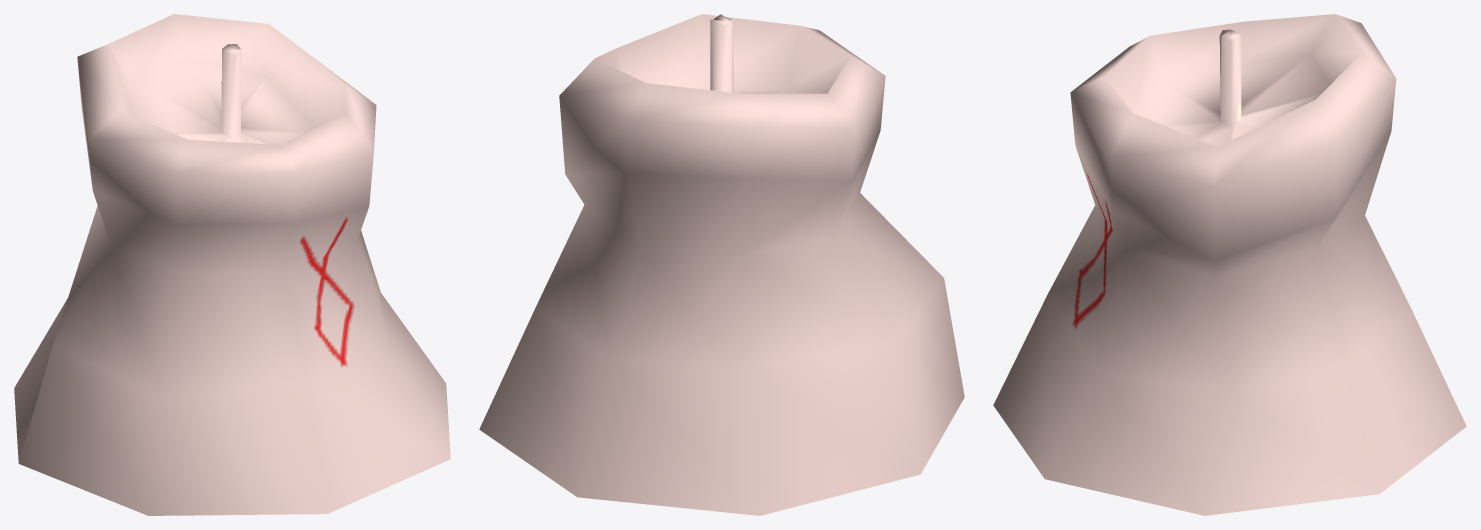
Rendered from Candle3.fbx.
3 renders of one model, left to right at view 1: azimuth 30°, elevation 25°; view 2: azimuth 150°, elevation 25°; view 3: azimuth 270°, elevation 25°, orthographic. The views are drawn at different scales.
Visible parts, largest first — view 1: Cylinder.005.LOW; view 2: Cylinder.005.LOW; view 3: Cylinder.005.LOW.
Boxes of the visible parts, x1,y1,x2,y2 form: Cylinder.005.LOW: (14,14,450,515); Cylinder.005.LOW: (479,14,964,515); Cylinder.005.LOW: (993,14,1466,515).
Bounding box in the file's own units: 6.95 × 6.2 × 6.95.
